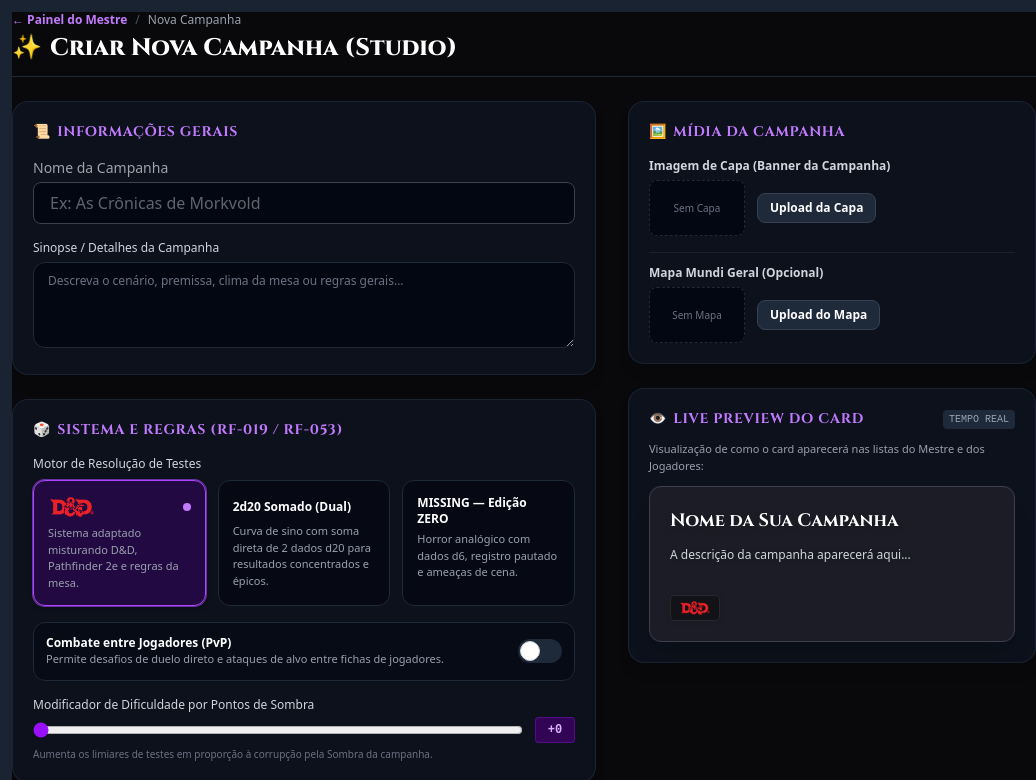
CampaignRulesEngine UI Components › CampaignForm › exibe o card de MISSING — Edição ZERO e oculta PvP e Sombra quando selecionado
Check: the text "Horror analógico com dados d6, registro pautado e ameaças de cena." is shown, box [417, 531, 560, 580]
Check: the text "Combate entre Jogadores (PvP)" is shown, box [46, 634, 231, 651]
Note: Clica no card de MISSING — Edição ZERO
Click the text "MISSING — Edição ZERO" at (472, 510), box [417, 494, 527, 527]
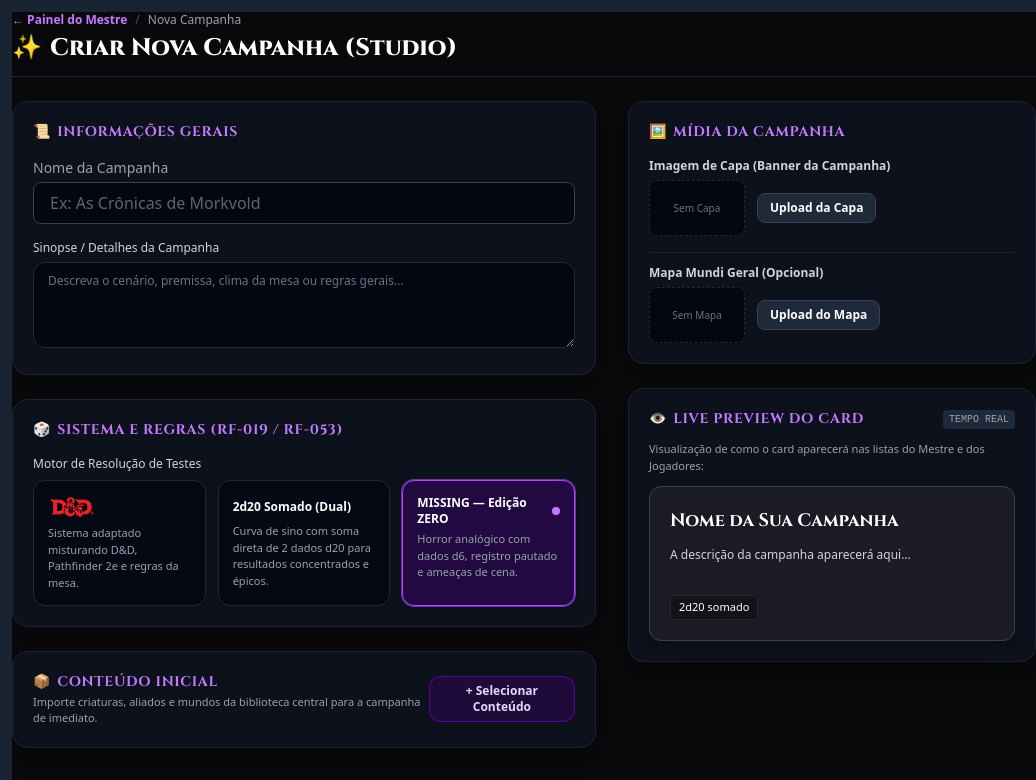
Check: the text "Combate entre Jogadores (PvP)" is gone
Check: the text "Modificador de Dificuldade por Pontos de Sombra" is gone
